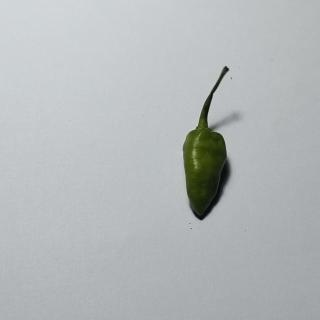Cabai Hijau: (177, 62, 239, 226)
